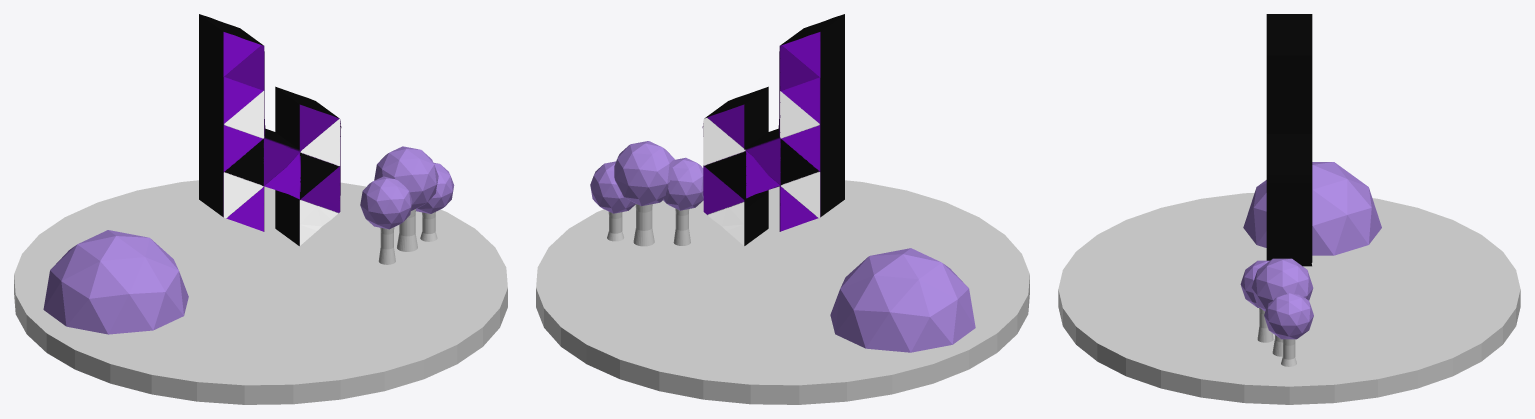
The model's file is hacksus_h.glb.
3 renders of one model, left to right at view 1: azimuth 30°, elevation 25°; view 2: azimuth 150°, elevation 25°; view 3: azimuth 270°, elevation 25°, orthographic. The views are drawn at different scales.
Visible parts, largest first — view 1: Cylinder, path189, Icosphere, Cylinder.001, Cylinder.002, Cylinder.003; view 2: Cylinder, path189, Icosphere, Cylinder.001, Cylinder.002, Cylinder.003; view 3: Cylinder, path189, Icosphere, Cylinder.001, Cylinder.003, Cylinder.002.
Part boxes in pixels (box(x1,y1,x2,y2)): Cylinder: box(14, 180, 507, 404); path189: box(199, 14, 341, 246); Icosphere: box(43, 230, 188, 334); Cylinder.001: box(374, 146, 438, 251); Cylinder.002: box(360, 176, 412, 264); Cylinder.003: box(416, 163, 454, 241); Cylinder: box(536, 180, 1029, 404); path189: box(702, 14, 844, 246); Icosphere: box(830, 248, 975, 352); Cylinder.001: box(614, 141, 674, 246); Cylinder.002: box(663, 157, 703, 245); Cylinder.003: box(590, 161, 635, 241); Cylinder: box(1058, 193, 1520, 404); path189: box(1266, 14, 1312, 266); Icosphere: box(1243, 162, 1381, 255); Cylinder.001: box(1251, 258, 1313, 356); Cylinder.003: box(1264, 293, 1313, 366); Cylinder.002: box(1240, 260, 1273, 342).
Size of the model in its own units: 2 by 1.29 by 2.
3 materials, 1 textured.
